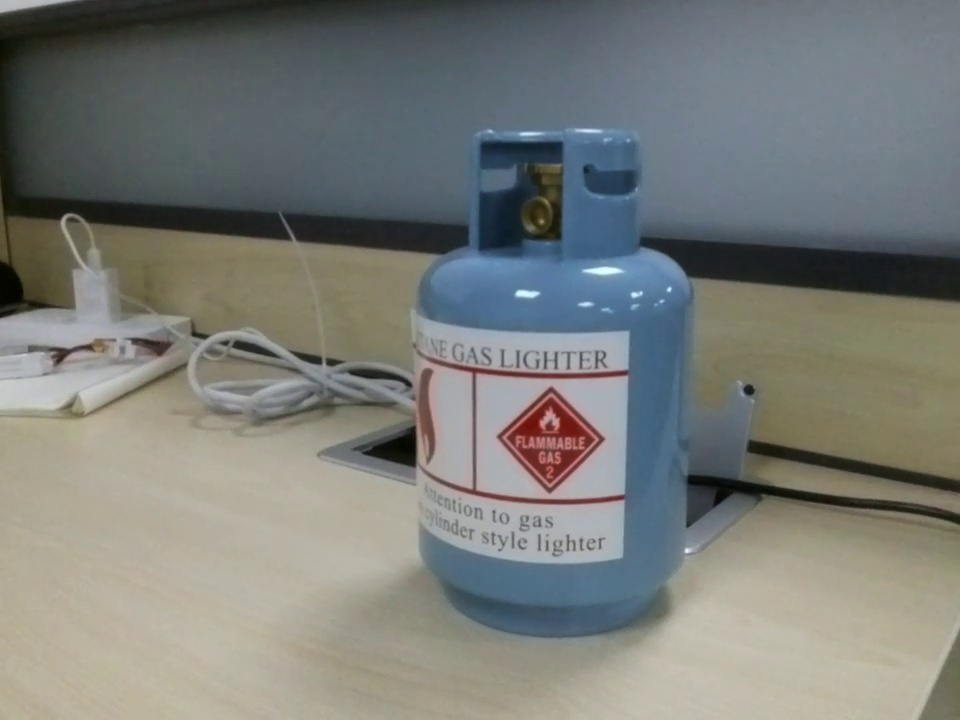gas tank: (408, 117, 701, 639)
